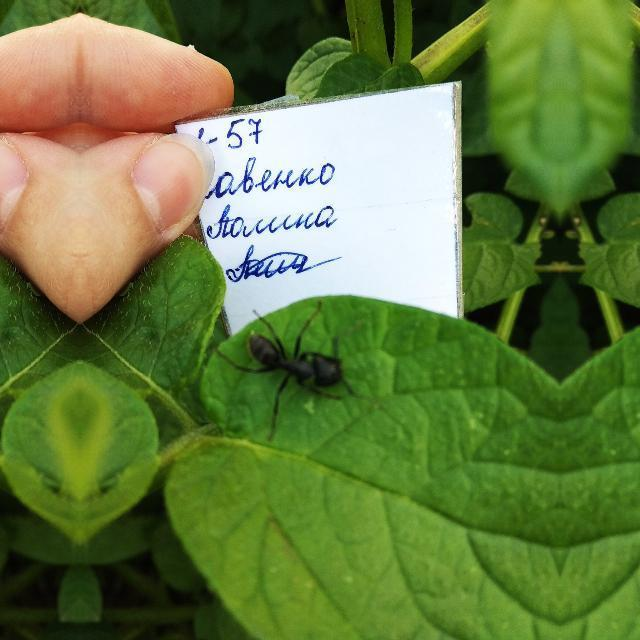Camponotus: (228, 317, 372, 405)
